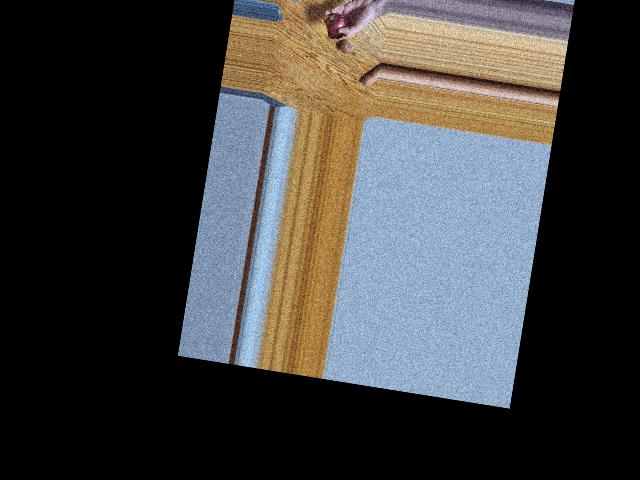onion: (324, 13, 346, 35)
